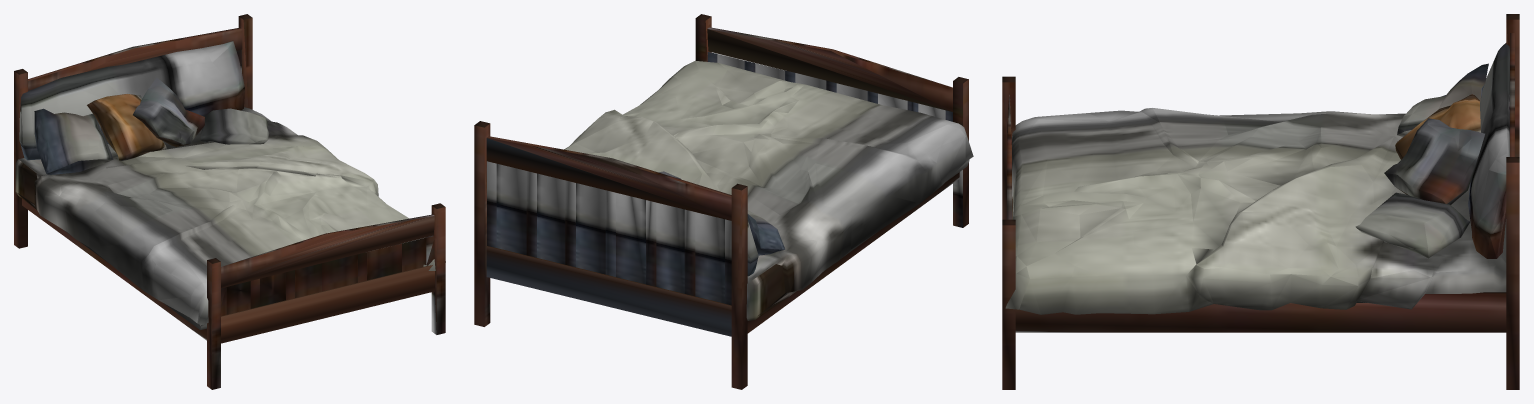
Rendered from BedWatlas.fbx.
3 renders of one model, left to right at view 1: azimuth 30°, elevation 25°; view 2: azimuth 150°, elevation 25°; view 3: azimuth 270°, elevation 25°, orthographic. The views are drawn at different scales.
Parts seen in each view (by area): view 1: bed; view 2: bed; view 3: bed.
Boxes of the visible parts, left/top/right/bottom form: bed: left=14, top=14, right=445, bottom=389; bed: left=474, top=14, right=973, bottom=389; bed: left=1002, top=14, right=1519, bottom=389.
Size of the model in its own units: 189 by 123 by 250.
1 material, 1 textured.
